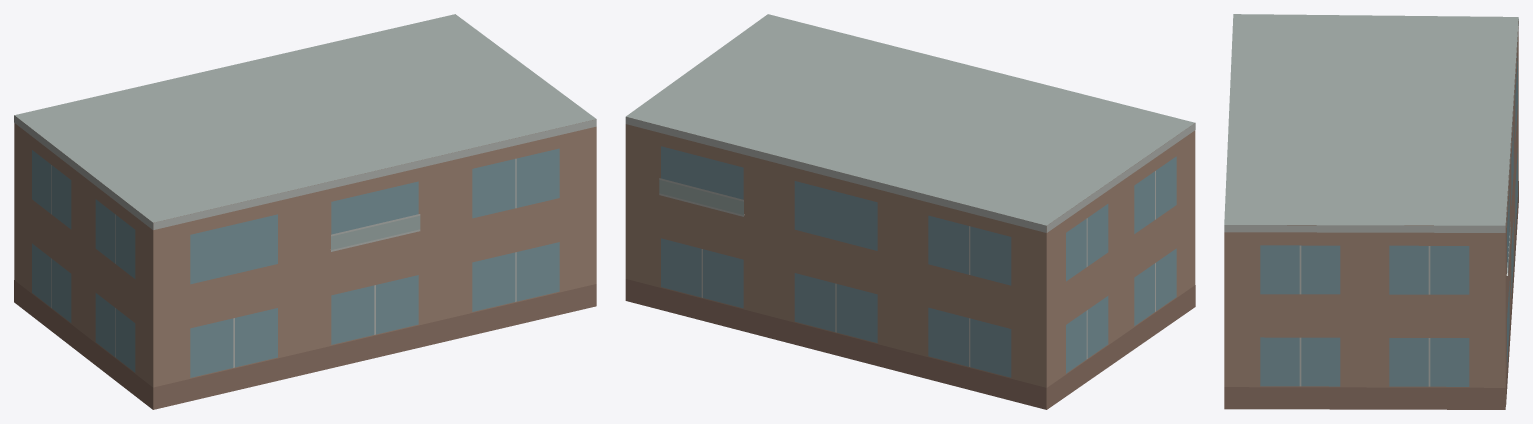
File: survey-upis-32919960.glb
3 views of the same model, side by side, from view 1: azimuth 30°, elevation 25°; view 2: azimuth 150°, elevation 25°; view 3: azimuth 270°, elevation 25° (orthographic).
Visible parts, largest first — view 1: survey-upis-32919960.tmp; view 2: survey-upis-32919960.tmp; view 3: survey-upis-32919960.tmp.
Boxes of the visible parts, <box> form: survey-upis-32919960.tmp: <box>14,14,596,409</box>; survey-upis-32919960.tmp: <box>625,14,1195,409</box>; survey-upis-32919960.tmp: <box>1224,14,1518,409</box>.
Size of the model in its own units: 15.04 by 6.1 by 8.85.
